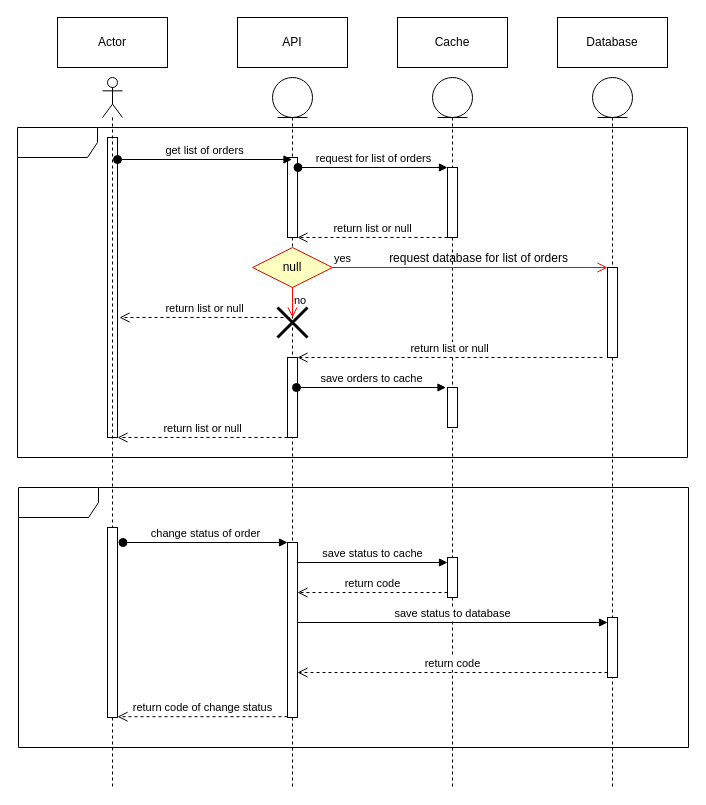
This 706x805 diagram has some shape labels left out. The centre of each missing label's shape, as x and y in pixels:
request list of order: the point at 352,292
save status changes: the point at 353,617
